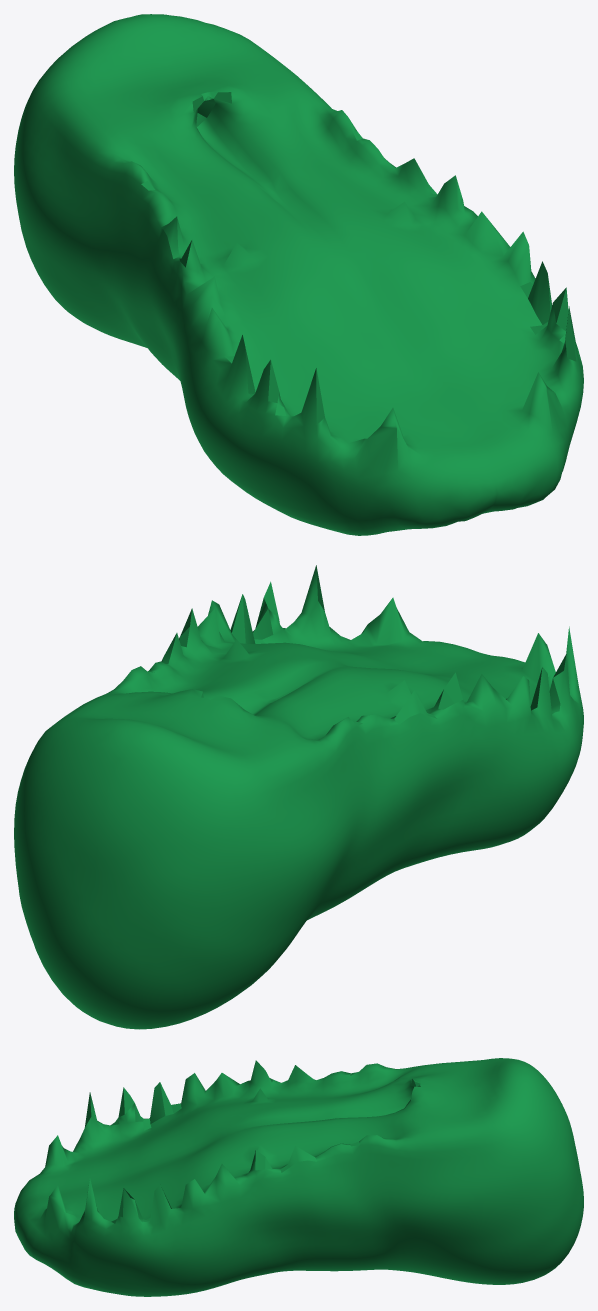
The model's file is Mandibula_DWN_Coco.fbx.
3 renders of one model, top to bottom at view 1: azimuth 30°, elevation 25°; view 2: azimuth 150°, elevation 25°; view 3: azimuth 270°, elevation 25°, orthographic. The views are drawn at different scales.
Visible parts, largest first — view 1: Group8460; view 2: Group8460; view 3: Group8460.
Part boxes in pixels (left/top/right/bottom): Group8460: left=14, top=14, right=583, bottom=535; Group8460: left=14, top=565, right=583, bottom=1029; Group8460: left=14, top=1058, right=583, bottom=1296.
Size of the model in its own units: 2.68 by 2.17 by 5.39.
